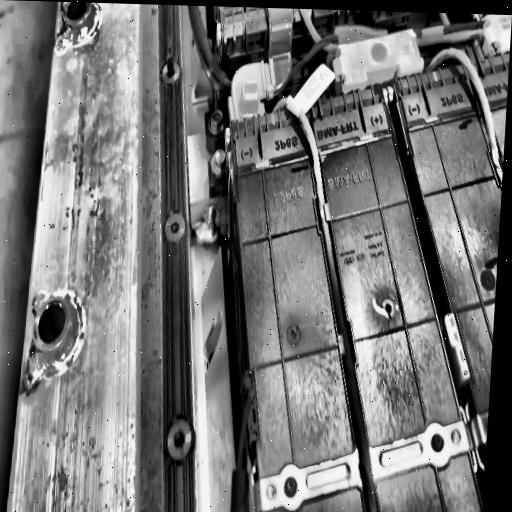busbar: (223, 8, 295, 124)
high_volt_cable: (273, 90, 381, 512), (279, 9, 511, 122), (424, 41, 504, 199)
low_volt_cable: (183, 5, 235, 100)
nut: (281, 471, 301, 502), (212, 146, 227, 174), (209, 104, 223, 131), (430, 435, 446, 457)
